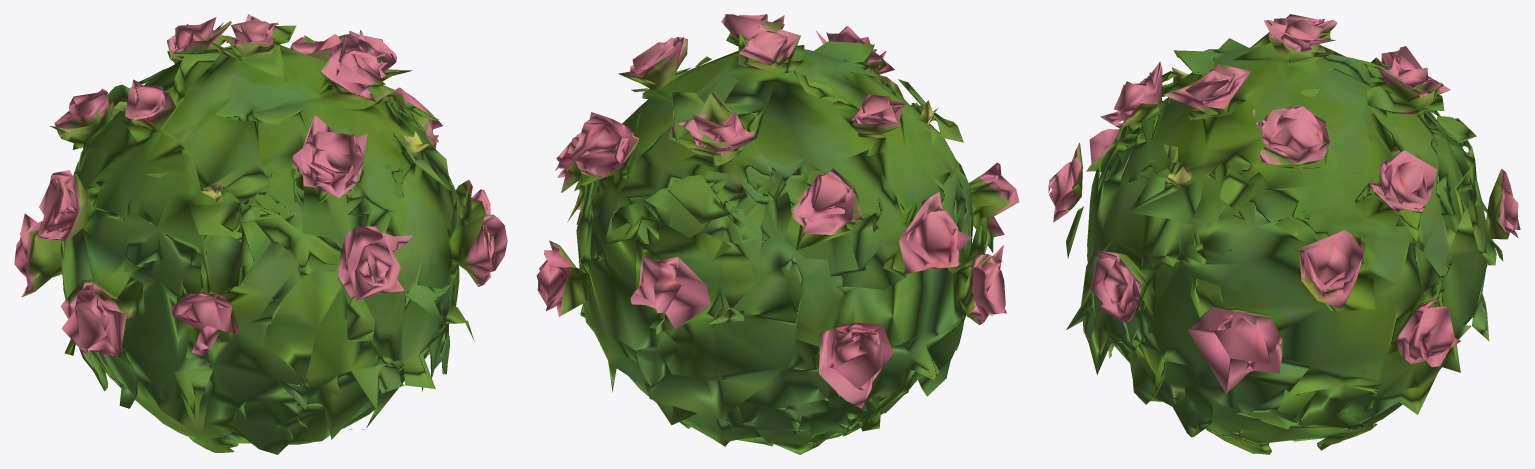
File: rose_bush_pink.glb
3 views of the same model, side by side, from view 1: azimuth 30°, elevation 25°; view 2: azimuth 150°, elevation 25°; view 3: azimuth 270°, elevation 25° (orthographic).
Parts seen in each view (by area): view 1: tripo_node_410747f9-538a-4aba-a53c-dd35e8883561; view 2: tripo_node_410747f9-538a-4aba-a53c-dd35e8883561; view 3: tripo_node_410747f9-538a-4aba-a53c-dd35e8883561.
Boxes of the visible parts, x1,y1,x2,y2 form: tripo_node_410747f9-538a-4aba-a53c-dd35e8883561: [14, 14, 507, 454]; tripo_node_410747f9-538a-4aba-a53c-dd35e8883561: [536, 14, 1019, 454]; tripo_node_410747f9-538a-4aba-a53c-dd35e8883561: [1048, 14, 1520, 454].
Bounding box in the file's own units: 0.9911 × 0.9473 × 0.973.
Materials: 1 (1 with a texture image).
